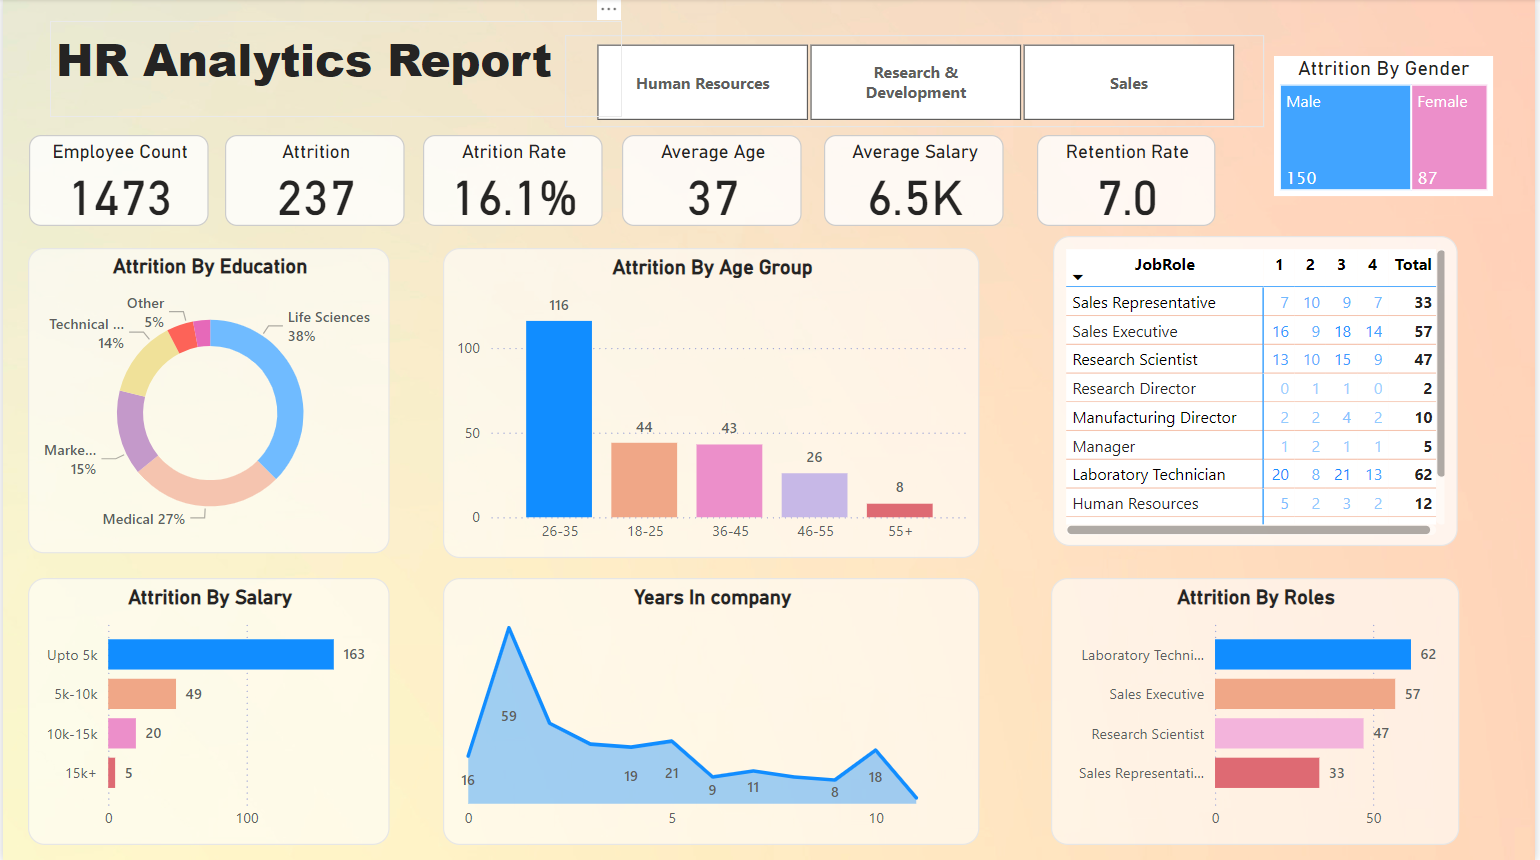

The dashboard page shown, as its layout file describes it:
{"tool":"powerbi","page":{"name":"Page 1","canvas":[1280,720],"ordinal":0},"visuals":[{"type":"card","title":"Employee Count","fields":{"Values":["Sum(HR_Analytics.EmployeeCount)"]},"box":[21.7,113.9,150.2,75.6],"z":0},{"type":"card","title":"Attrition","fields":{"Values":["Sum(HR_Analytics.AttritionCount)"]},"box":[185.4,113.9,150.2,75.6],"z":1000},{"type":"card","title":"Atrition Rate","fields":{"Values":["HR_Analytics.AttritionRate"]},"box":[351.1,113.9,150.2,75.6],"z":2000},{"type":"card","title":"Average Age","fields":{"Values":["Avg(HR_Analytics.Age)"]},"box":[516.8,113.9,150.2,75.6],"z":3000},{"type":"card","title":"Average Salary","fields":{"Values":["Avg(HR_Analytics.MonthlyIncome)"]},"box":[685.6,113.9,150.2,75.6],"z":4000},{"type":"card","title":"Retention Rate","fields":{"Values":["Avg(HR_Analytics.YearsAtCompany)"]},"box":[863.7,113.9,149.1,75.6],"z":5000},{"type":"donutChart","title":"Attrition By Education","fields":{"Category":["HR_Analytics.EducationField"],"Y":["Sum(HR_Analytics.AttritionCount)"]},"box":[20.7,208.2,302.4,254.8],"z":6000},{"type":"columnChart","title":"Attrition By Age Group","fields":{"Category":["HR_Analytics.AgeGroup"],"Y":["Sum(HR_Analytics.AttritionCount)"]},"box":[367.6,208.2,448.4,258.9],"z":7000},{"type":"pivotTable","title":"Satisfaction level","fields":{"Rows":["HR_Analytics.JobRole"],"Columns":["HR_Analytics.JobSatisfaction"],"Values":["Sum(HR_Analytics.AttritionCount)"]},"box":[877.2,197.8,337.6,258.9],"z":8000},{"type":"barChart","title":"Attrition By Salary","fields":{"Category":["HR_Analytics.SalarySlab"],"Y":["Sum(HR_Analytics.AttritionCount)"]},"box":[20.7,483.6,302.4,222.7],"z":9000},{"type":"barChart","title":"Attrition By Roles","fields":{"Y":["Sum(HR_Analytics.AttritionCount)"],"Category":["HR_Analytics.JobRole"]},"box":[875.1,483.6,340.7,222.7],"z":10000},{"type":"stackedAreaChart","title":"Years In company","fields":{"Category":["HR_Analytics.YearsAtCompany"],"Y":["Sum(HR_Analytics.AttritionCount)"]},"box":[367.6,483.6,448.4,222.7],"z":11000},{"type":"treemap","title":"Attrition By Gender","fields":{"Group":["HR_Analytics.Gender"],"Values":["Sum(HR_Analytics.AttritionCount)"]},"box":[1061.5,47.6,183.3,117],"z":12000},{"type":"slicer","fields":{"Values":["HR_Analytics.Department"]},"box":[469.1,30,584.1,76.6],"z":13000},{"type":"textbox","box":[39.4,18.6,477.4,79.7],"z":14000}]}

Visuals, with their boxes in screenshot pixels (x1, y1, x2, y2), scaled from the page's 1280x720 canvas onto the 1540x860 screenshot:
"Employee Count" card: pyautogui.locateOnScreen(26, 136, 207, 226)
"Attrition" card: pyautogui.locateOnScreen(223, 136, 404, 226)
"Atrition Rate" card: pyautogui.locateOnScreen(422, 136, 603, 226)
"Average Age" card: pyautogui.locateOnScreen(622, 136, 802, 226)
"Average Salary" card: pyautogui.locateOnScreen(825, 136, 1006, 226)
"Retention Rate" card: pyautogui.locateOnScreen(1039, 136, 1219, 226)
"Attrition By Education" donutChart: pyautogui.locateOnScreen(25, 249, 389, 553)
"Attrition By Age Group" columnChart: pyautogui.locateOnScreen(442, 249, 982, 558)
"Satisfaction level" pivotTable: pyautogui.locateOnScreen(1055, 236, 1462, 546)
"Attrition By Salary" barChart: pyautogui.locateOnScreen(25, 578, 389, 844)
"Attrition By Roles" barChart: pyautogui.locateOnScreen(1053, 578, 1463, 844)
"Years In company" stackedAreaChart: pyautogui.locateOnScreen(442, 578, 982, 844)
"Attrition By Gender" treemap: pyautogui.locateOnScreen(1277, 57, 1498, 197)
slicer - HR_Analytics.Department: pyautogui.locateOnScreen(564, 36, 1267, 127)
textbox: pyautogui.locateOnScreen(47, 22, 622, 117)
